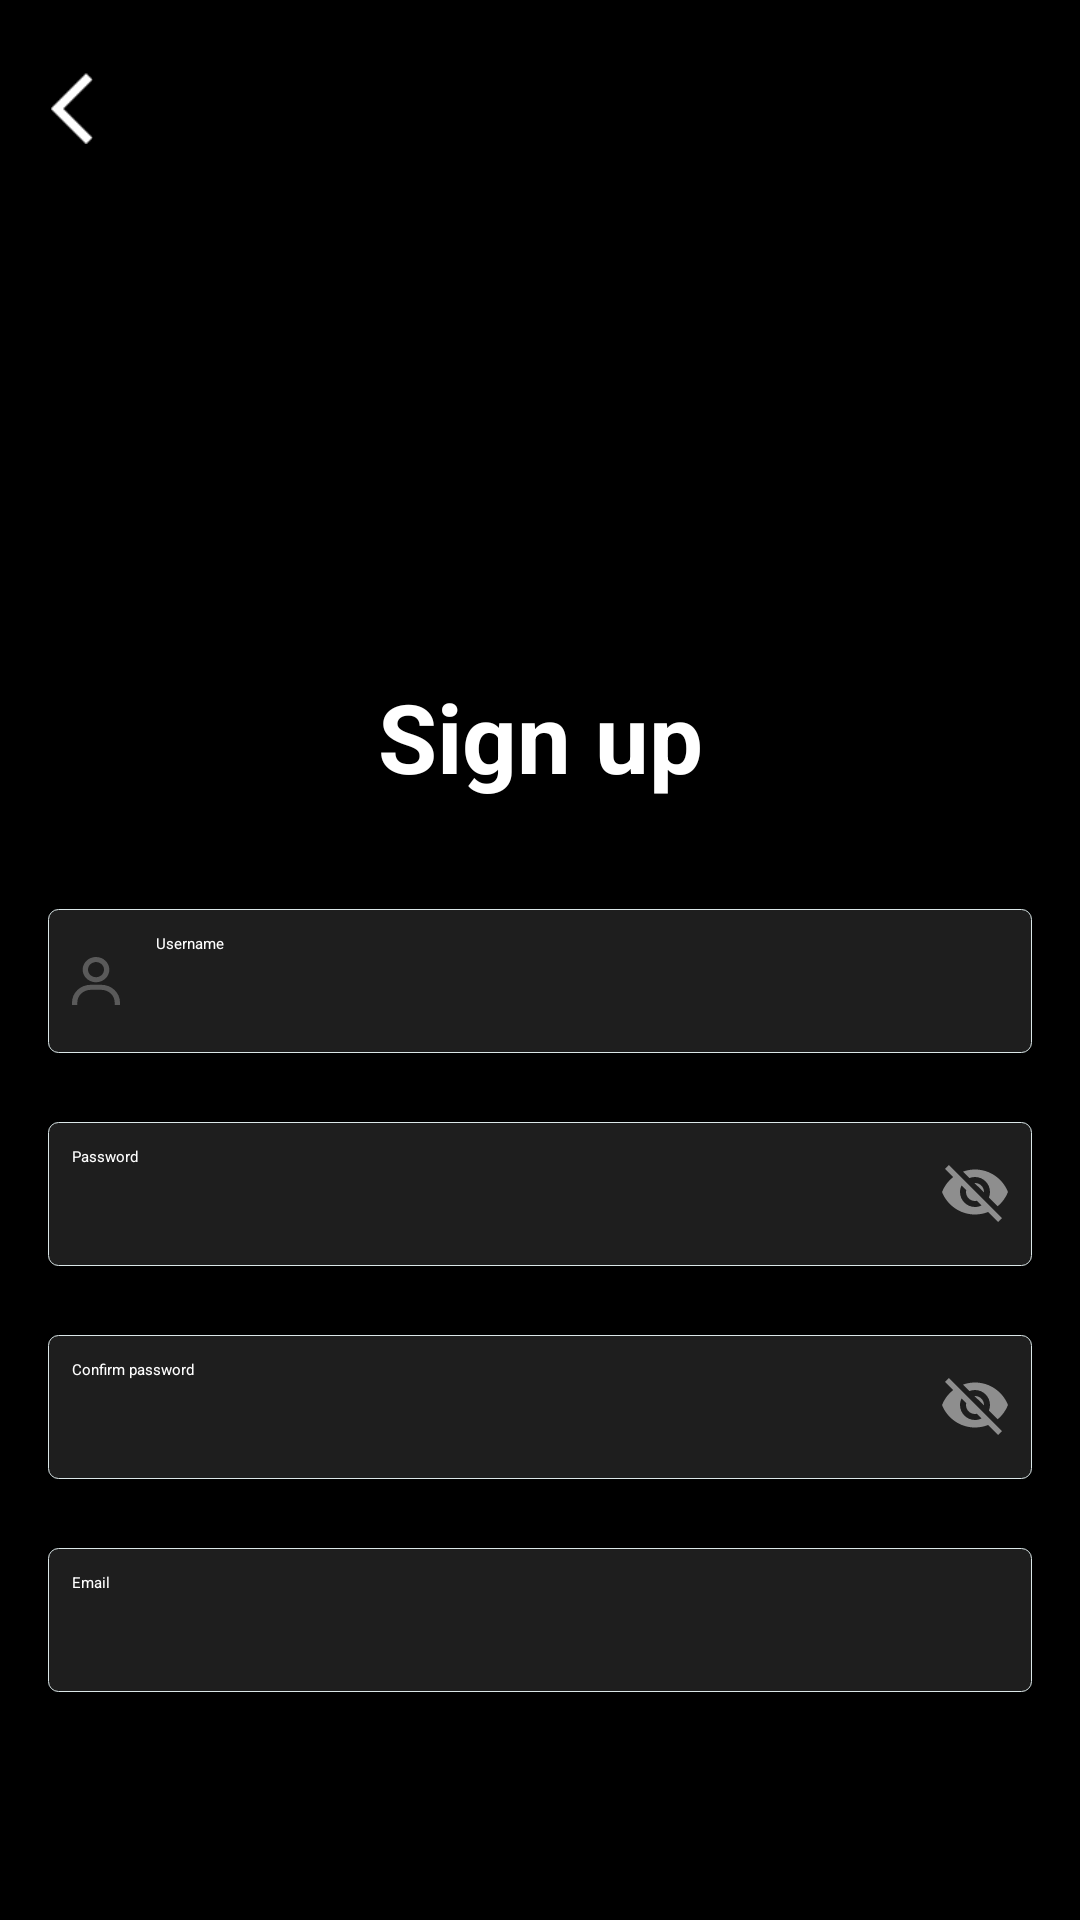

Icon bounding boxes for this 1080px x 1920px phone screenshot, format box(x1, y1, x2, y2):
signup back: box(51, 73, 93, 144)
